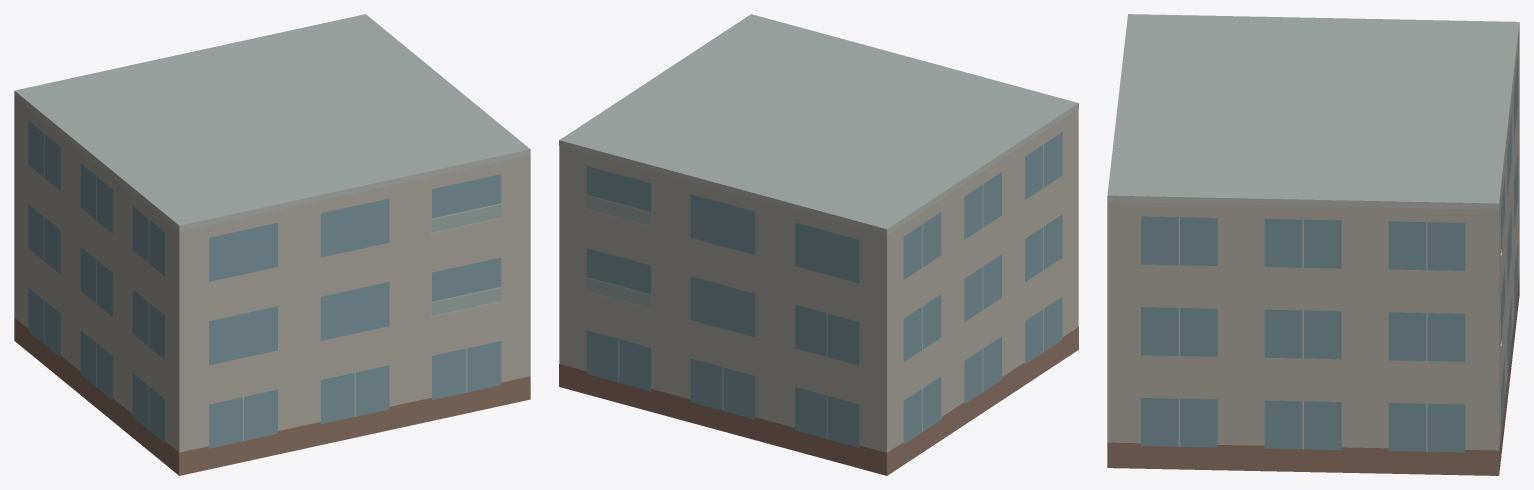
The model's file is survey-upis-32832990.glb.
3 renders of one model, left to right at view 1: azimuth 30°, elevation 25°; view 2: azimuth 150°, elevation 25°; view 3: azimuth 270°, elevation 25°, orthographic. The views are drawn at different scales.
Parts seen in each view (by area): view 1: survey-upis-32832990.tmp; view 2: survey-upis-32832990.tmp; view 3: survey-upis-32832990.tmp.
Boxes of the visible parts, box(x1,y1,x2,y2) form: survey-upis-32832990.tmp: box(14, 14, 530, 475); survey-upis-32832990.tmp: box(559, 14, 1078, 475); survey-upis-32832990.tmp: box(1107, 14, 1519, 475).
Bounding box in the file's own units: 15.68 × 10.5 × 14.41.
